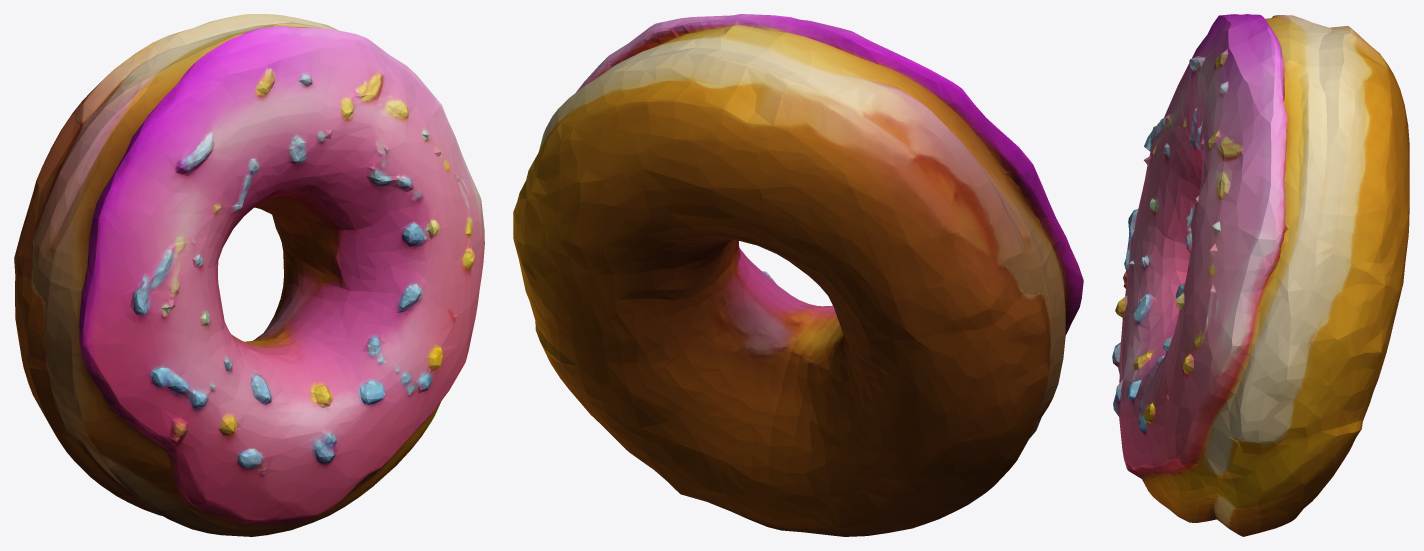
3 views of the same model, side by side, from view 1: azimuth 30°, elevation 25°; view 2: azimuth 150°, elevation 25°; view 3: azimuth 270°, elevation 25° (orthographic). The views are drawn at different scales.
Parts seen in each view (by area): view 1: world; view 2: world; view 3: world.
Boxes of the visible parts, bbox=[...] form: world: bbox=[14, 14, 484, 536]; world: bbox=[513, 14, 1083, 536]; world: bbox=[1112, 14, 1409, 536].
Bounding box in the file's own units: 0.5457 × 0.5492 × 0.3098.
1 material, 1 textured.
